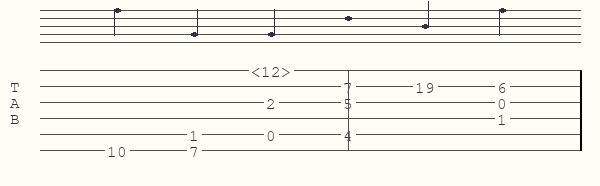0: (266, 127, 280, 141), (497, 95, 511, 109)
1: (189, 127, 203, 141), (497, 111, 511, 125)
10: (107, 143, 131, 157)
19: (415, 79, 439, 93)
2: (266, 95, 280, 109)
4: (343, 127, 357, 141)
5: (343, 95, 357, 109)
6: (497, 79, 511, 93)
7: (189, 143, 203, 157), (343, 79, 357, 93)
harmonic: (251, 63, 295, 78)
